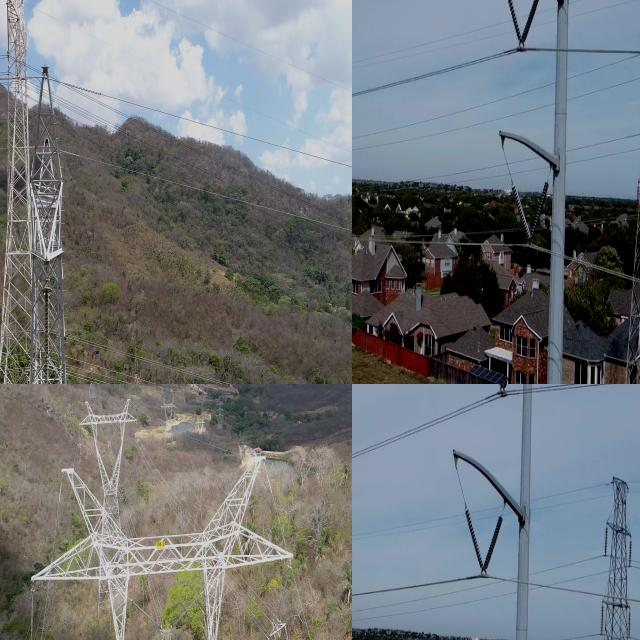杆塔: (31, 472, 296, 640), (0, 0, 64, 384), (26, 68, 93, 384), (76, 397, 140, 612), (570, 470, 638, 640), (158, 394, 179, 451), (83, 384, 99, 404)
正常电缆: (352, 37, 519, 103), (529, 242, 640, 290), (352, 227, 530, 251), (525, 43, 640, 62)
正常绝缘子: (457, 492, 489, 583), (474, 506, 507, 589), (510, 180, 552, 244), (505, 0, 544, 51), (40, 284, 52, 384), (601, 522, 611, 560), (598, 600, 606, 638), (626, 534, 634, 570), (494, 384, 509, 402), (633, 180, 640, 216), (626, 605, 633, 640), (495, 384, 508, 400), (638, 100, 640, 139)
